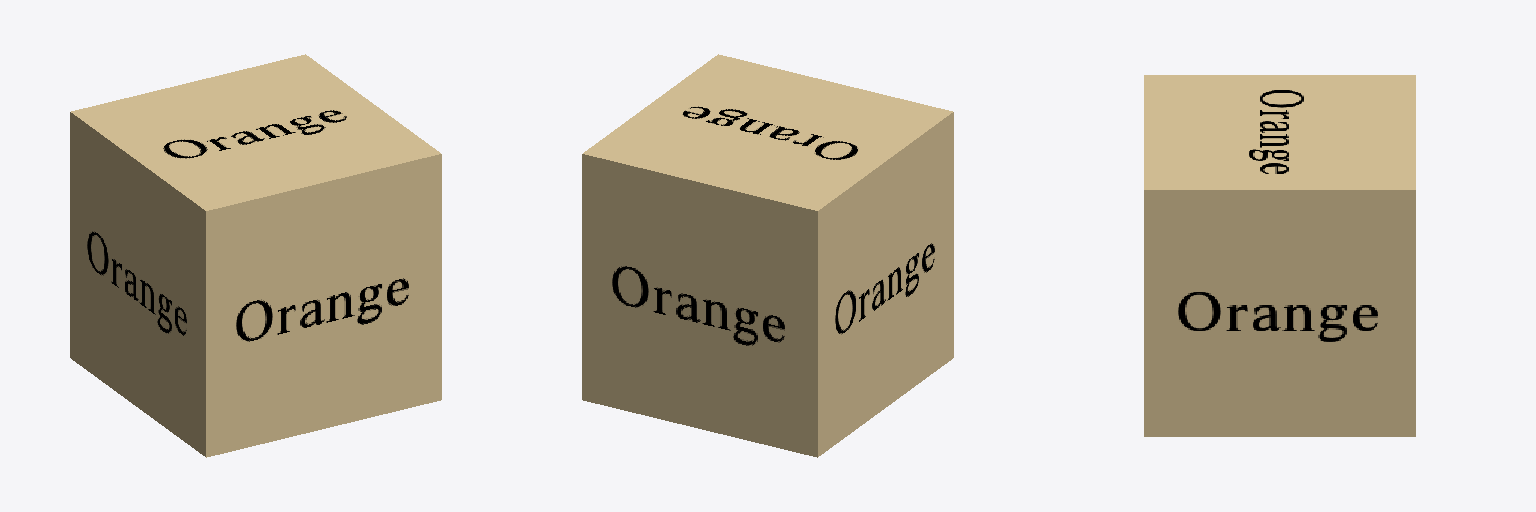
3 views of the same model, side by side, from view 1: azimuth 30°, elevation 25°; view 2: azimuth 150°, elevation 25°; view 3: azimuth 270°, elevation 25° (orthographic).
Parts seen in each view (by area): view 1: Cube; view 2: Cube; view 3: Cube.
Boxes of the visible parts, x1,y1,x2,y2 form: Cube: [70, 54, 441, 457]; Cube: [582, 54, 953, 457]; Cube: [1144, 75, 1415, 436].
Size of the model in its own units: 0.6 by 0.6 by 0.6.
Materials: 1 (1 with a texture image).